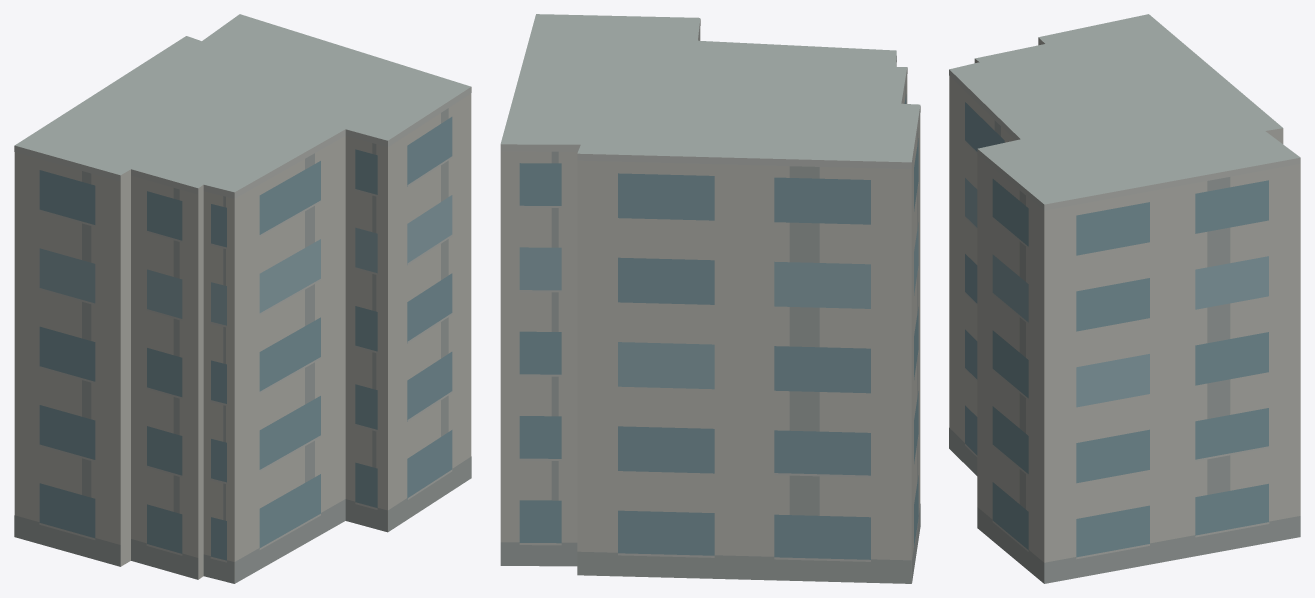
Rendered from survey-upis-33010191.glb.
The picture shows the model from 3 angles, left to right: view 1: azimuth 30°, elevation 25°; view 2: azimuth 150°, elevation 25°; view 3: azimuth 270°, elevation 25°; orthographic projection. The views are drawn at different scales.
Visible parts, largest first — view 1: survey-upis-33010191.tmp; view 2: survey-upis-33010191.tmp; view 3: survey-upis-33010191.tmp.
Part boxes in pixels (x1=…): survey-upis-33010191.tmp: x1=14, y1=14, x2=471, y2=583; survey-upis-33010191.tmp: x1=500, y1=14, x2=920, y2=583; survey-upis-33010191.tmp: x1=949, y1=14, x2=1300, y2=583.
Bounding box in the file's own units: 15.95 × 14.8 × 12.44.
